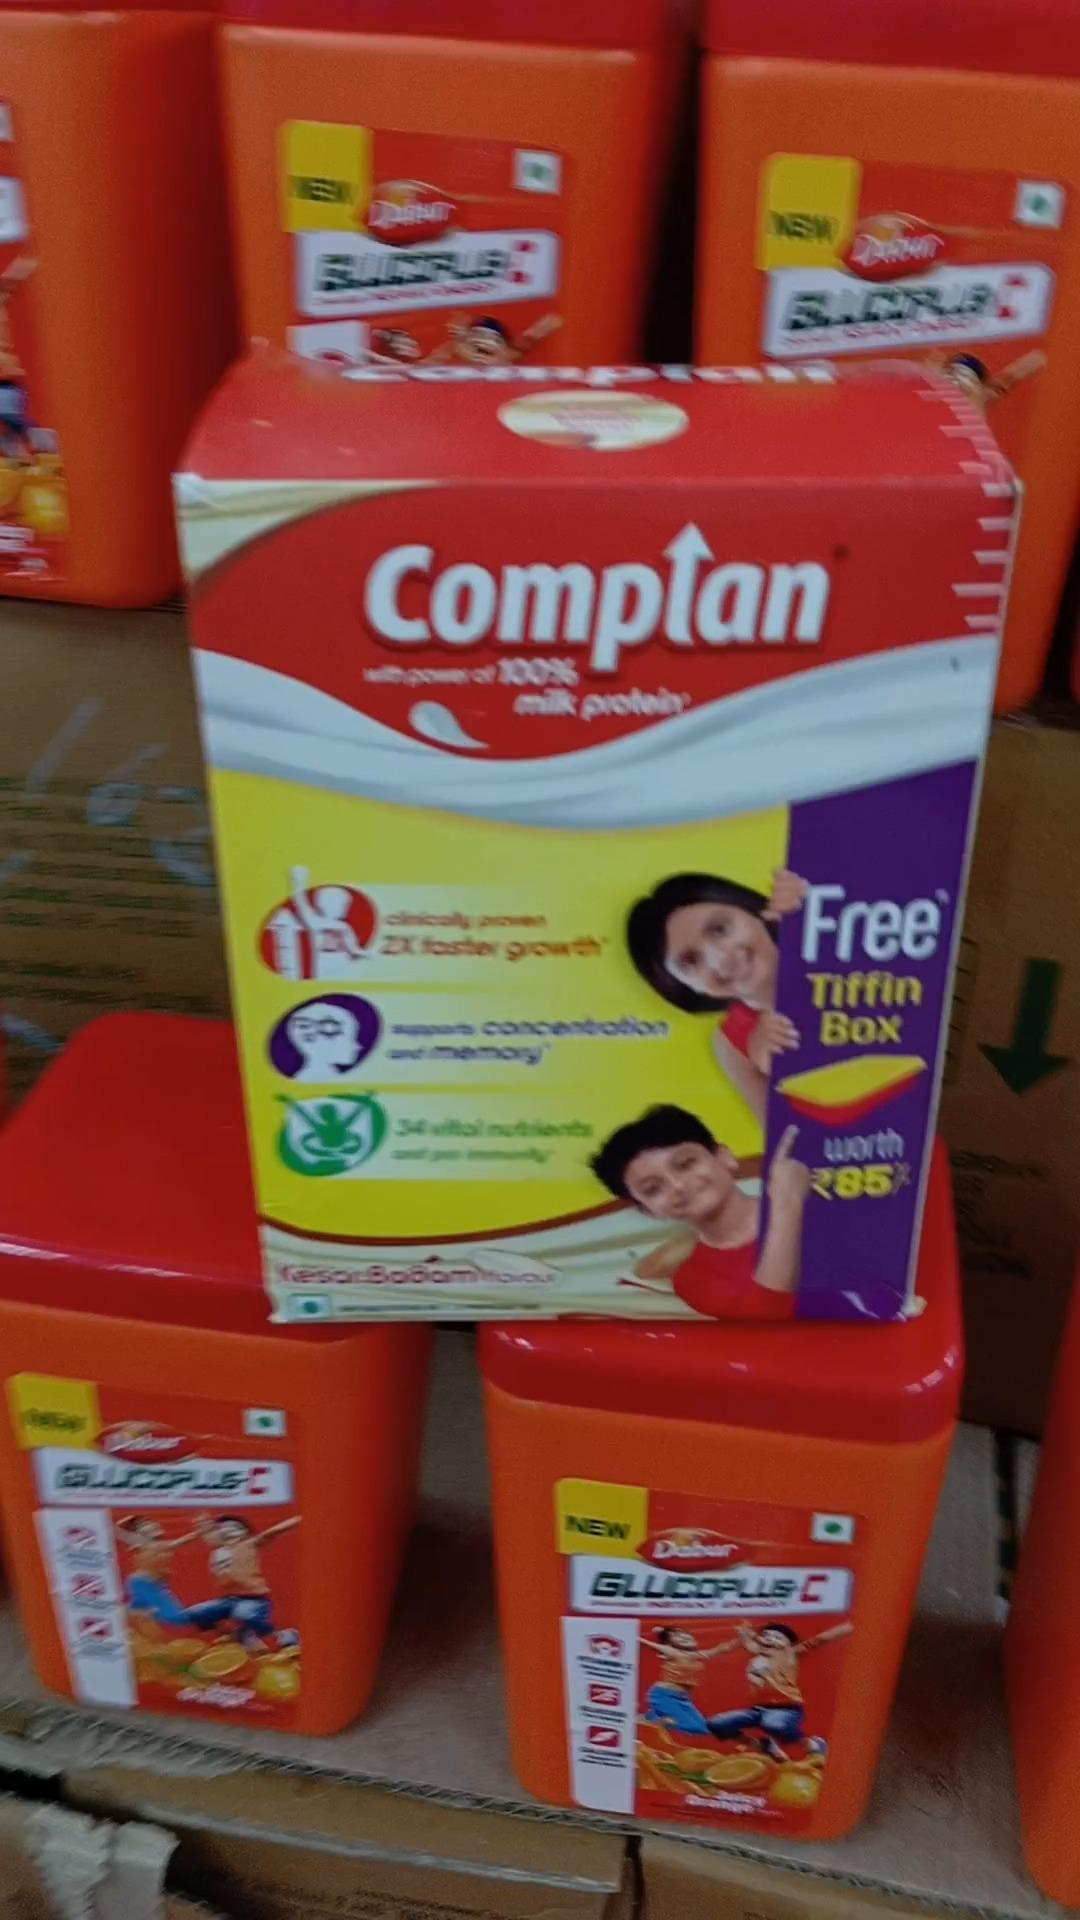COMPLAN_KESAR_BADAM_500_GMS_PACK: (183, 469, 1033, 1316)
